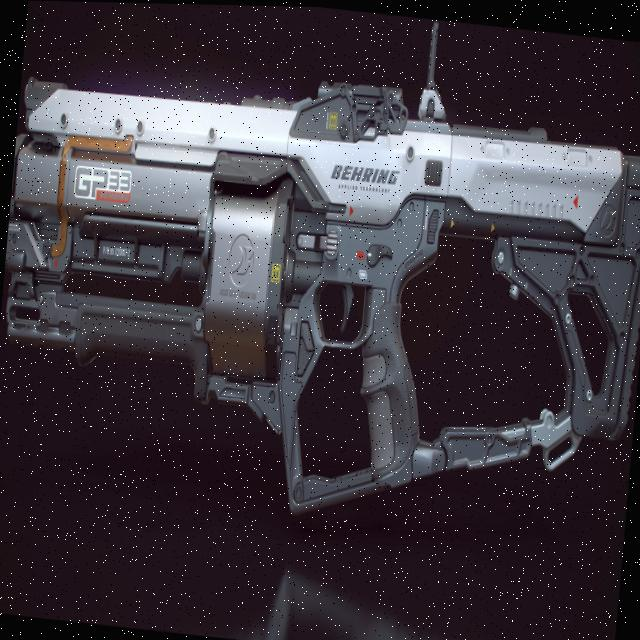firearm: (0, 0, 640, 545)
rocket: (0, 0, 640, 551)
